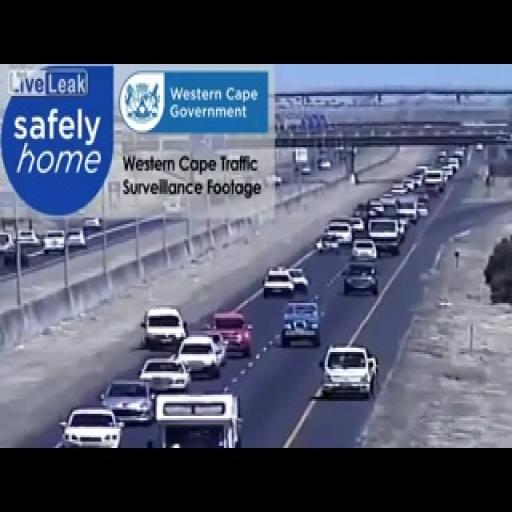Car: (154, 392, 242, 449), (321, 344, 377, 397), (61, 407, 122, 447), (103, 374, 156, 418), (209, 311, 253, 356), (177, 334, 222, 376), (141, 307, 186, 347), (139, 357, 189, 391), (367, 217, 401, 251), (283, 301, 319, 331), (343, 266, 378, 296), (264, 270, 294, 298), (285, 266, 309, 292), (326, 223, 352, 246), (351, 239, 377, 262), (3, 245, 29, 268), (44, 230, 66, 253), (318, 232, 343, 252), (0, 232, 16, 258), (17, 229, 41, 246), (67, 228, 86, 248), (424, 170, 445, 188), (377, 194, 397, 212), (366, 200, 385, 218), (345, 216, 364, 233), (353, 202, 370, 220), (410, 171, 427, 187), (390, 182, 408, 196), (316, 236, 330, 252), (402, 177, 417, 191), (417, 203, 429, 218), (85, 217, 101, 228), (436, 152, 448, 165), (300, 163, 312, 175), (319, 159, 332, 170), (334, 144, 345, 152), (476, 142, 483, 152)
Not Accident: (138, 308, 226, 379)
